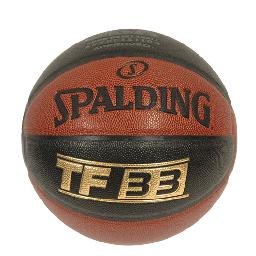ball: (22, 29, 237, 245)
